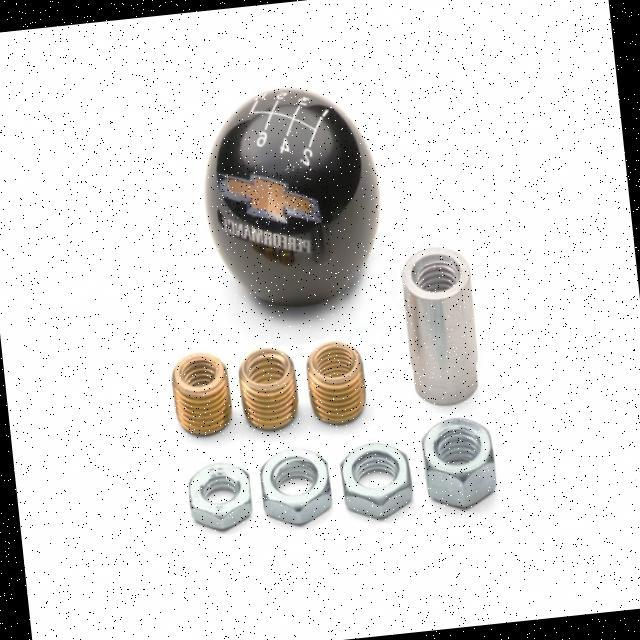Chevrolet: (217, 160, 320, 236)
